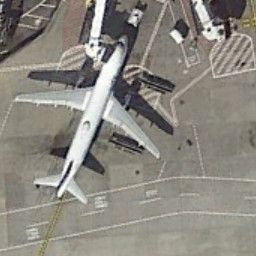Airplane: (11, 31, 166, 208)
